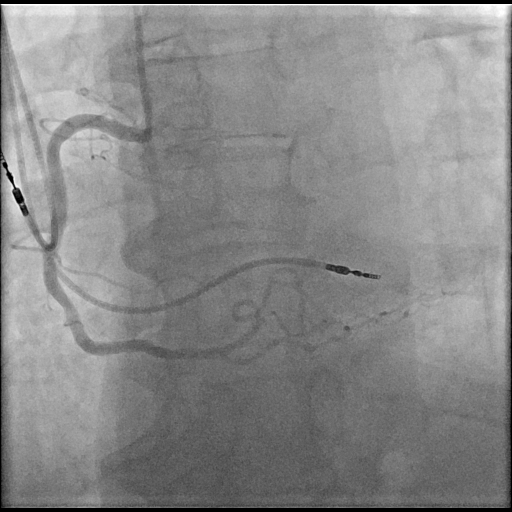RCA: (45, 113, 245, 358)
catherter: (133, 4, 153, 133)
